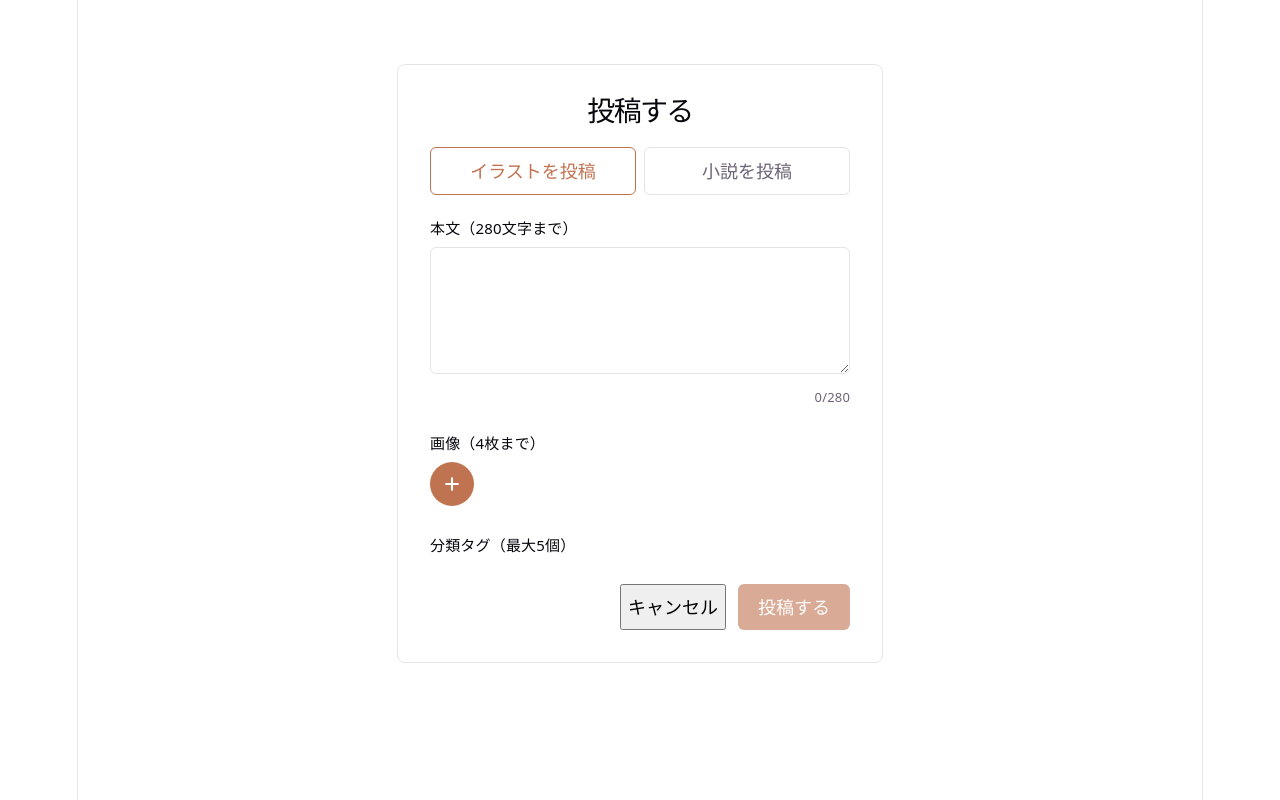
Scenario: PostCreateView › 文字数カウンターが入力に応じて更新される
Type "こんにちは" into the text box with test id "post-body" at (640, 310), box [430, 247, 850, 374]
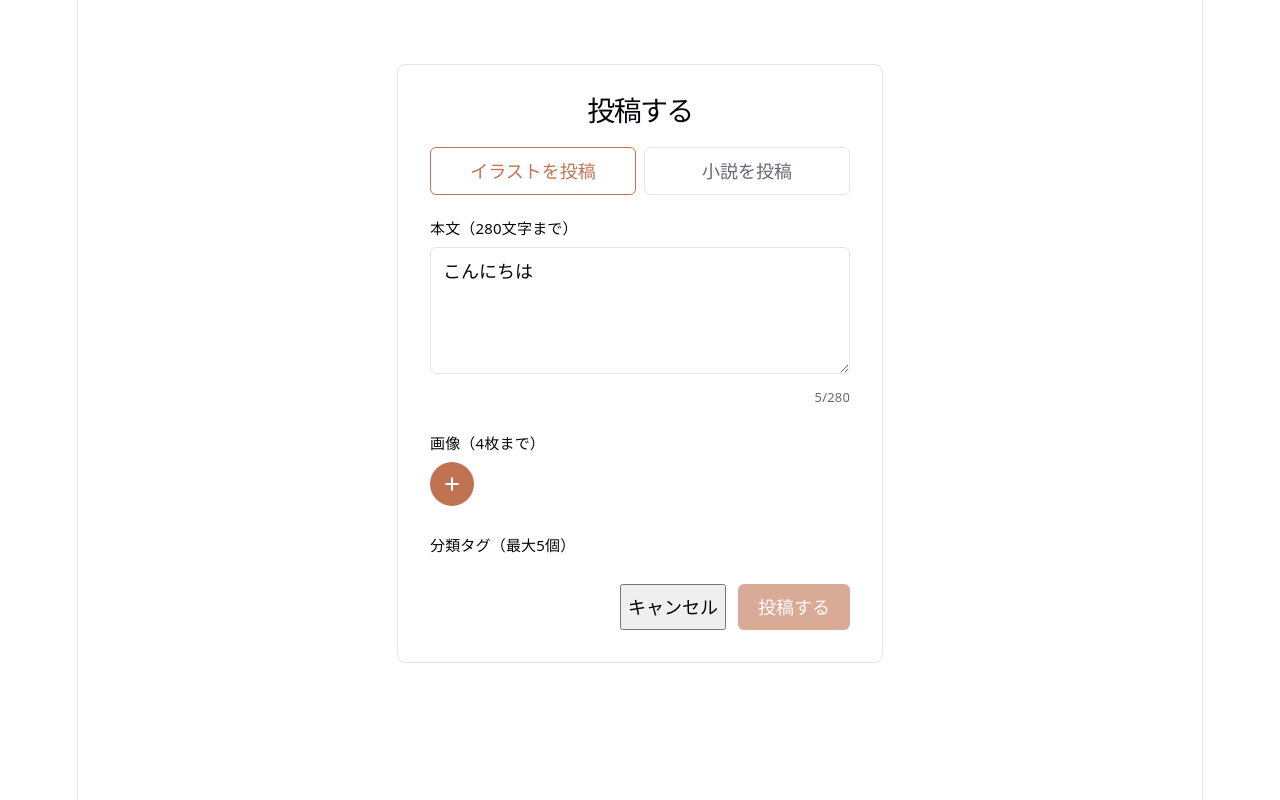
Expected: the text with test id "post-body-counter" reads "5/280", [814, 388, 850, 406]
